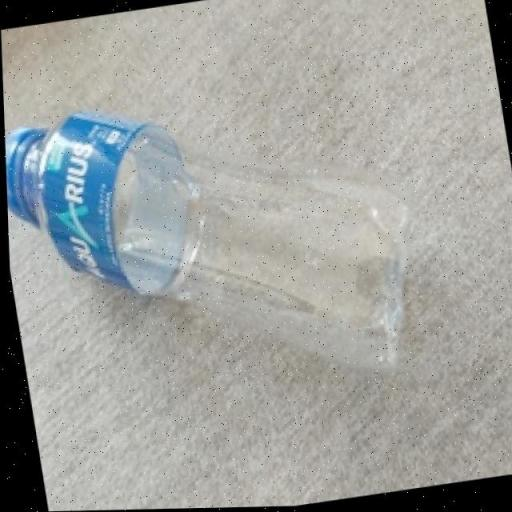plastic: (4, 111, 422, 379)
